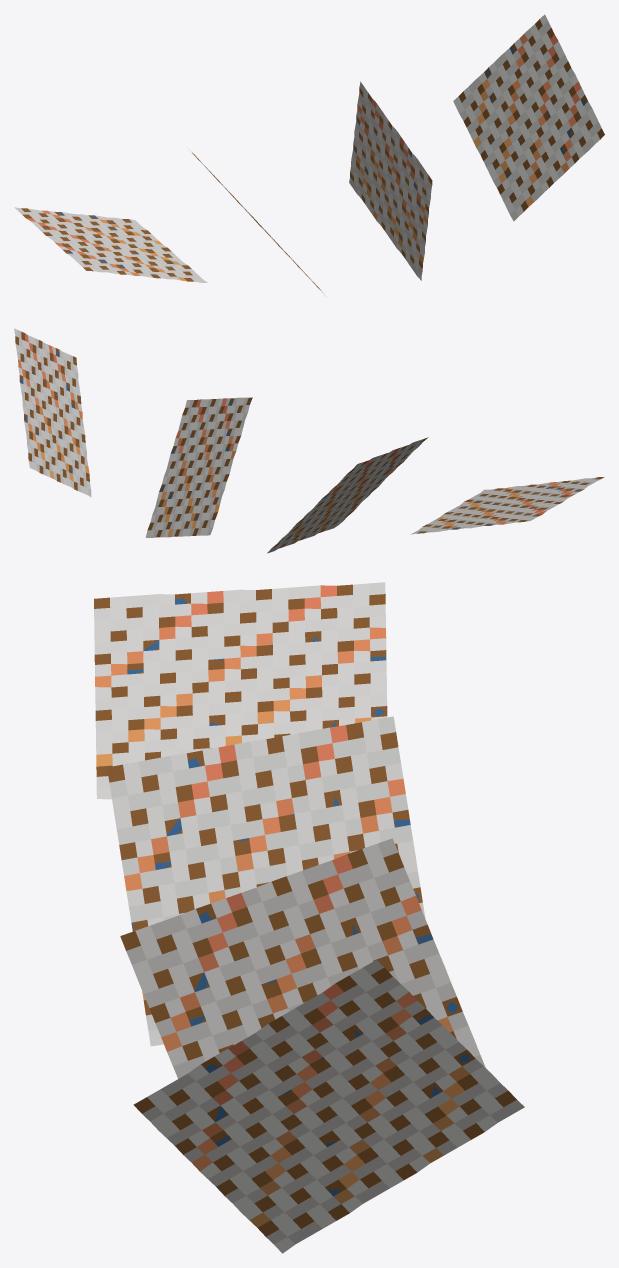
The model's file is bulk.glb.
The picture shows the model from 3 angles, top to bottom: view 1: azimuth 30°, elevation 25°; view 2: azimuth 150°, elevation 25°; view 3: azimuth 270°, elevation 25°; orthographic projection. The views are drawn at different scales.
Parts seen in each view (by area): view 1: Rejilla 3, Rejilla 2, Rejilla 0; view 2: Rejilla 2, Rejilla 3, Rejilla 0, Rejilla 1; view 3: Rejilla 3, Rejilla 0, Rejilla 1, Rejilla 2.
Boxes of the visible parts, x1,y1,x2,y2 form: Rejilla 3: [453, 14, 604, 221]; Rejilla 2: [349, 81, 432, 280]; Rejilla 0: [14, 207, 207, 282]; Rejilla 2: [145, 397, 252, 537]; Rejilla 3: [14, 328, 91, 496]; Rejilla 0: [410, 477, 604, 534]; Rejilla 1: [267, 437, 428, 553]; Rejilla 3: [133, 960, 524, 1253]; Rejilla 0: [94, 582, 387, 799]; Rejilla 1: [107, 716, 425, 1046]; Rejilla 2: [120, 838, 485, 1078].
Size of the model in its own units: 27.4 by 9.85 by 9.83.
Materials: 20 (1 with a texture image).
